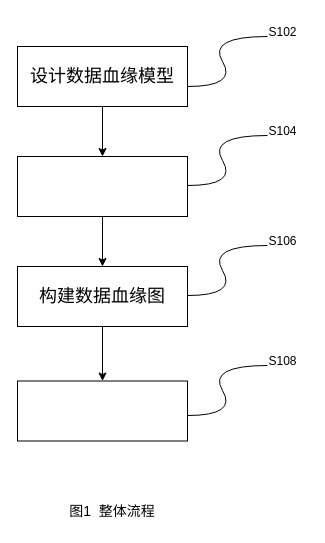
The diagram is 325 pixels wide and 543 high, and some of its shapes have lost their labels. Here are the shapes that lost their labels. From the top down, the box of each, then its label:
(16, 156, 188, 216): 数据血缘分析
(16, 380, 188, 441): 动态计算与资源调整
